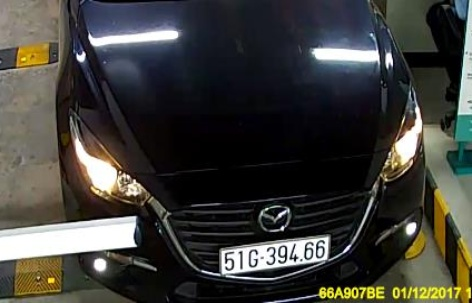plate: (221, 236, 331, 274)
